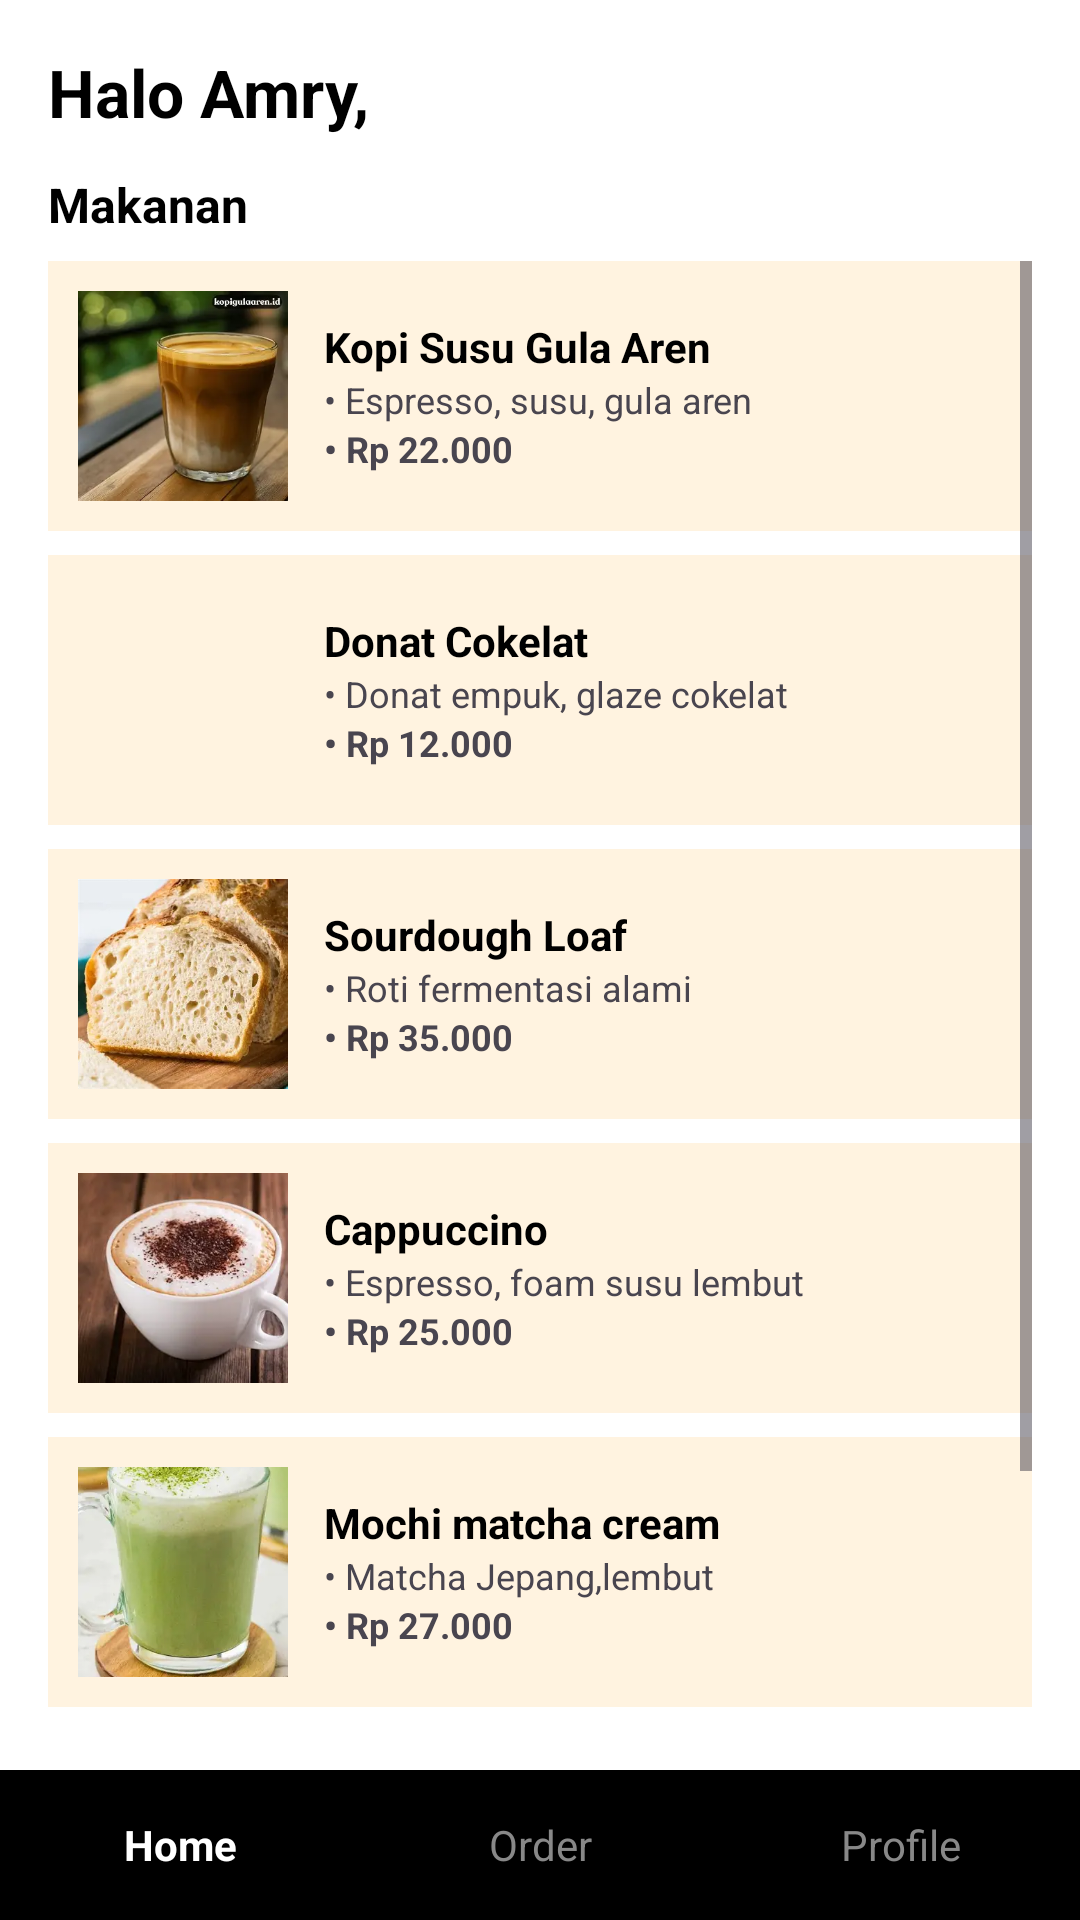

Where icons sit on this 1080*1920 app screen, as bbox=(x1, y1, x2, y2):
Matcha Latte: bbox=(78, 1467, 288, 1677)
